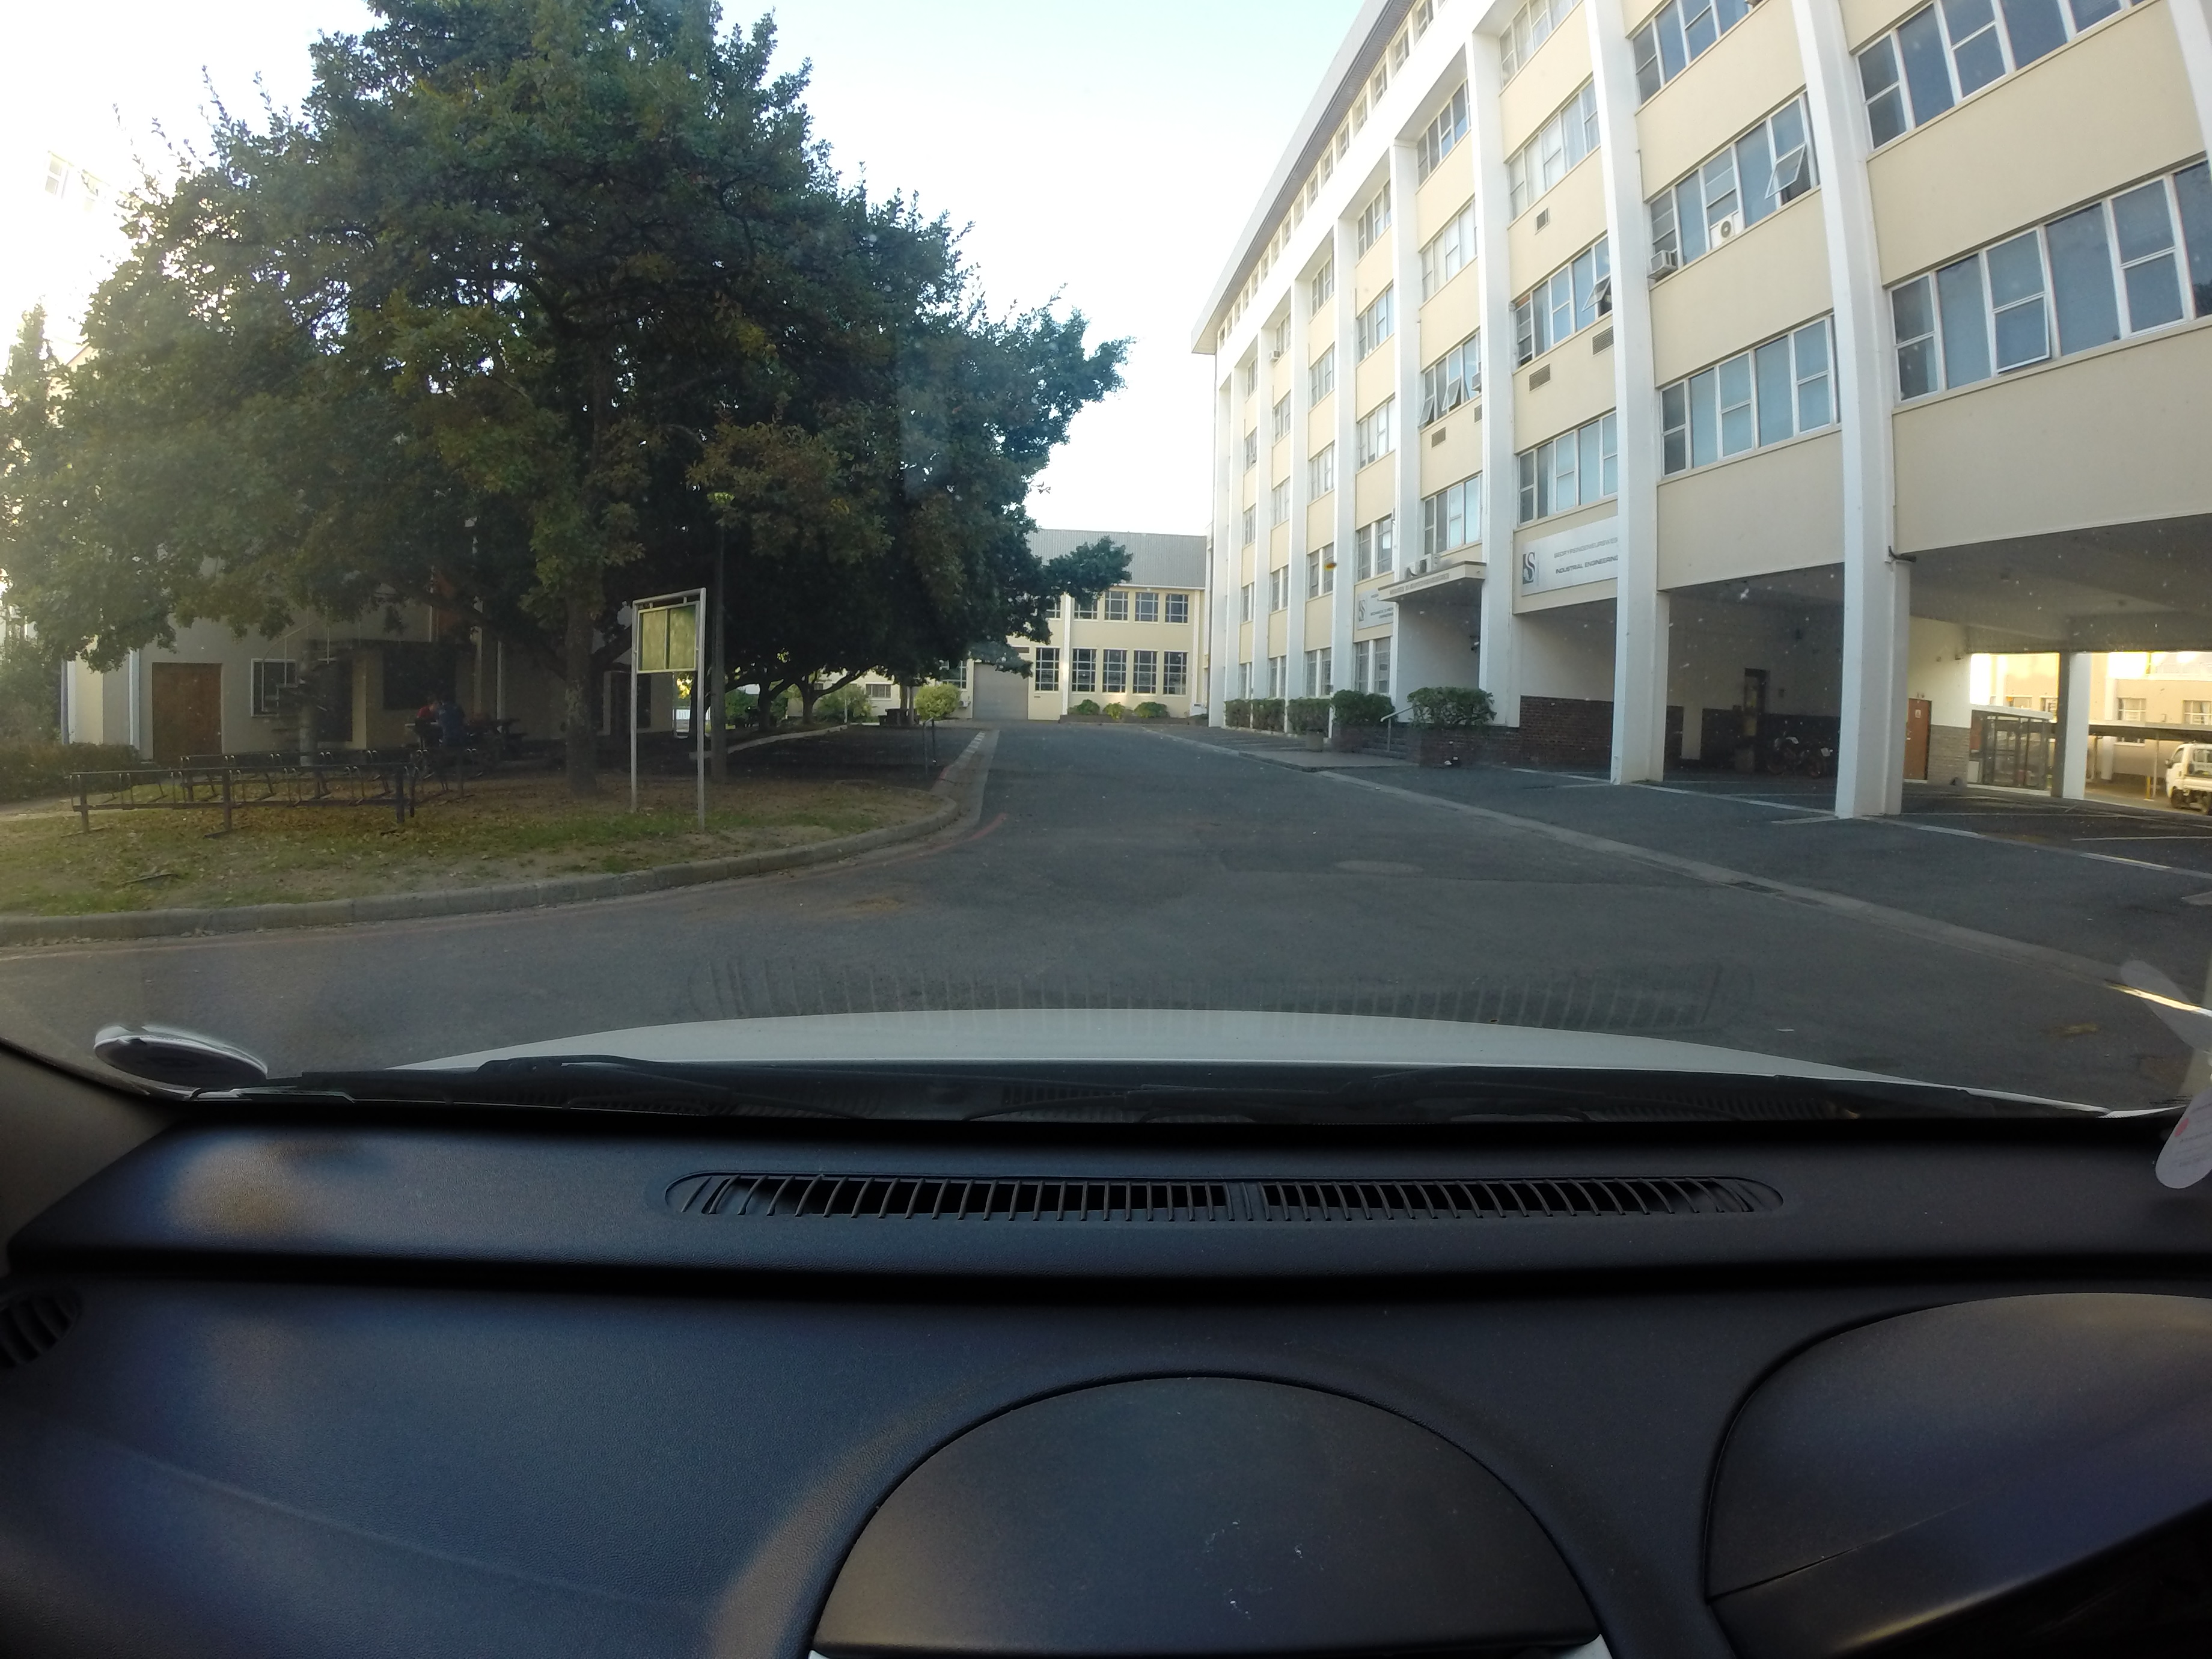pothole: (850, 892, 914, 918)
